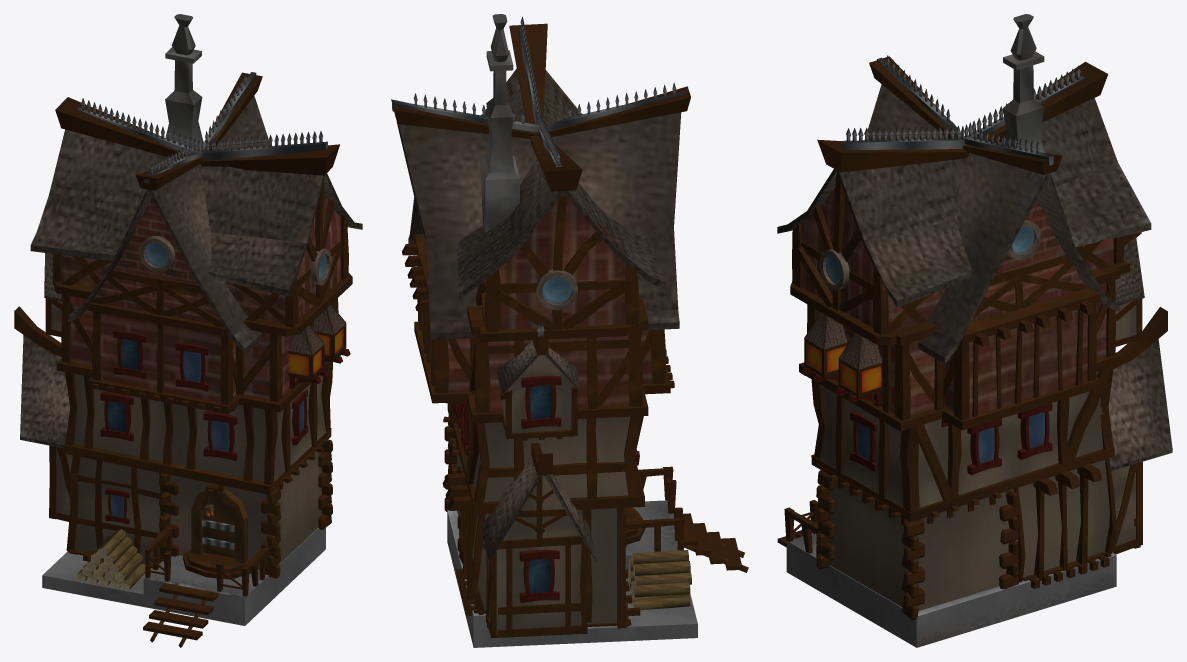
Rendered from german_house_4.glb.
3 renders of one model, left to right at view 1: azimuth 30°, elevation 25°; view 2: azimuth 150°, elevation 25°; view 3: azimuth 270°, elevation 25°, orthographic. The views are drawn at different scales.
Parts seen in each view (by area): view 1: casa401_Material #101_0; view 2: casa401_Material #101_0; view 3: casa401_Material #101_0.
Part boxes in pixels (x1,y1,x2,y2): casa401_Material #101_0: (14,14,362,647); casa401_Material #101_0: (391,14,748,647); casa401_Material #101_0: (777,14,1172,647).
Size of the model in its own units: 4.87 by 8.75 by 5.35.
Materials: 1 (1 with a texture image).
